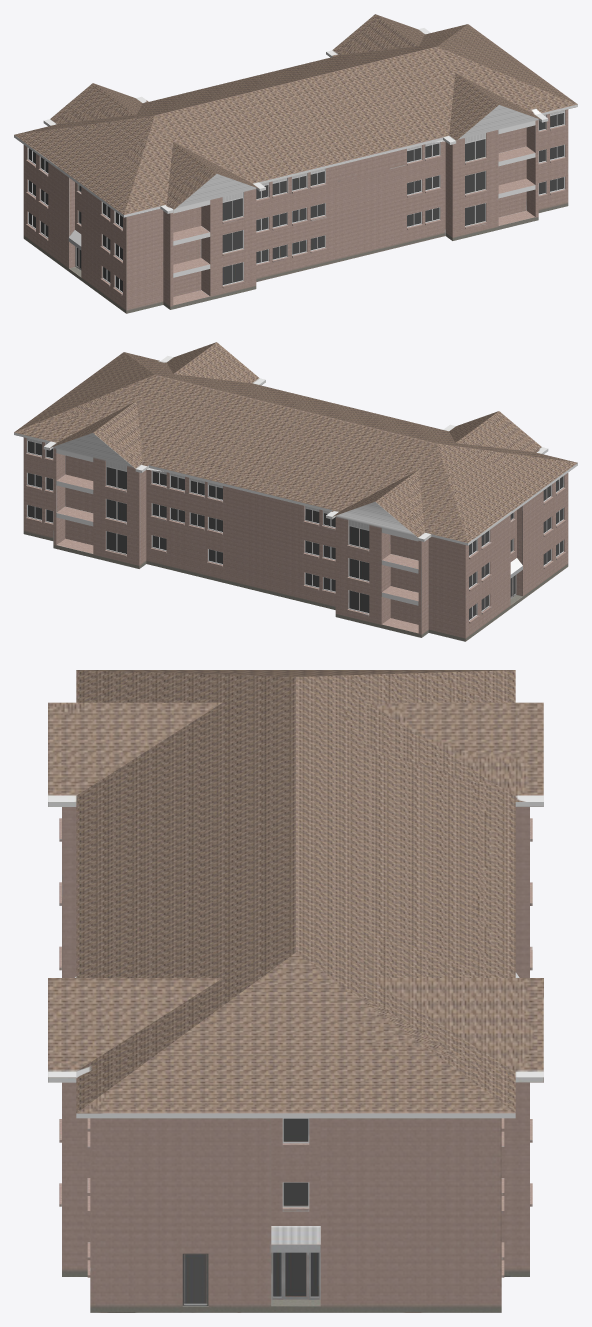
File: 594 Bloor St E (version 2.0).fbx
The picture shows the model from 3 angles, top to bottom: view 1: azimuth 30°, elevation 25°; view 2: azimuth 150°, elevation 25°; view 3: azimuth 270°, elevation 25°; orthographic projection. The views are drawn at different scales.
Parts seen in each view (by area): view 1: 594_Bloor_St_E_LOD0; view 2: 594_Bloor_St_E_LOD0; view 3: 594_Bloor_St_E_LOD0.
Boxes of the visible parts, x1,y1,x2,y2 form: 594_Bloor_St_E_LOD0: [14, 14, 577, 313]; 594_Bloor_St_E_LOD0: [14, 342, 577, 641]; 594_Bloor_St_E_LOD0: [48, 670, 543, 1312].
Size of what is drawn, in the model's own units: 3700 by 1100 by 1750.
1 material, 1 textured.
